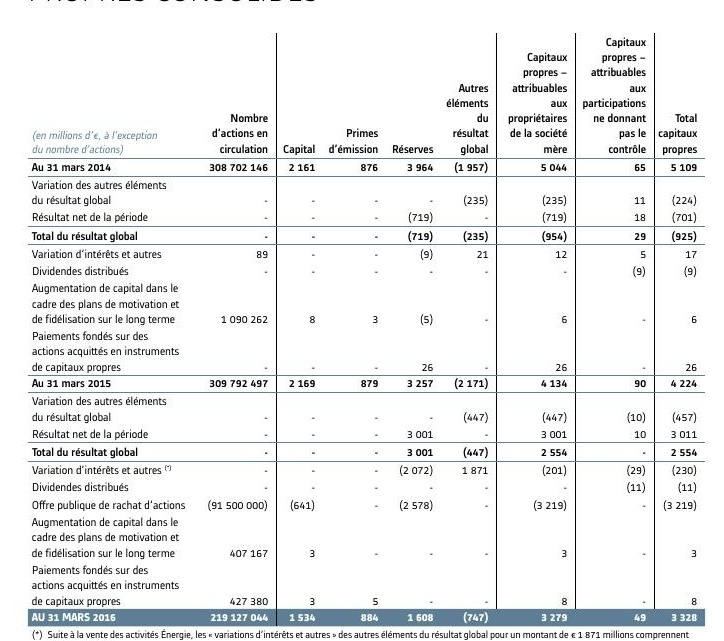table: (0, 0, 724, 641)
